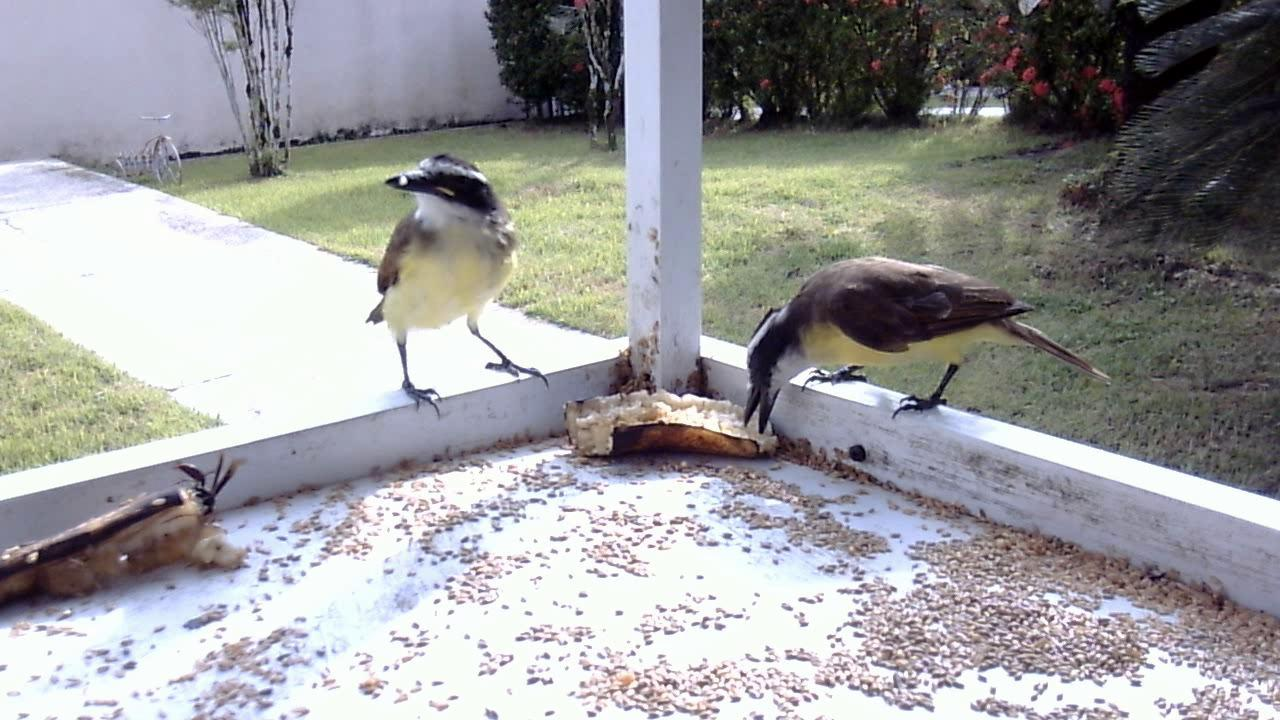bem_te_vi: (737, 248, 1120, 444), (349, 146, 553, 426)
